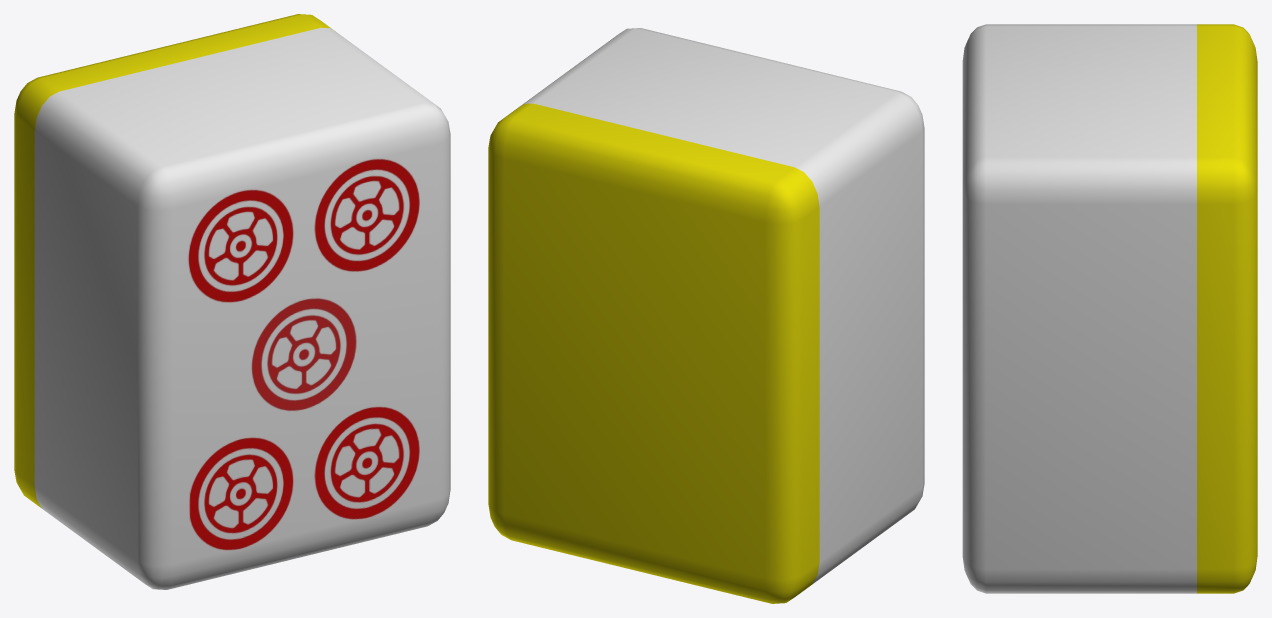
The model's file is pinzu10.glb.
3 renders of one model, left to right at view 1: azimuth 30°, elevation 25°; view 2: azimuth 150°, elevation 25°; view 3: azimuth 270°, elevation 25°, orthographic. The views are drawn at different scales.
Parts seen in each view (by area): view 1: Cube, Cube.001; view 2: Cube; view 3: Cube.
Part boxes in pixels (x1,y1,x2,y2): Cube: (14,14,450,589); Cube.001: (188,158,420,550); Cube: (488,28,924,603); Cube: (962,24,1257,593).
Size of the model in its own units: 2 by 2.6 by 1.6.
3 materials, 1 textured.
